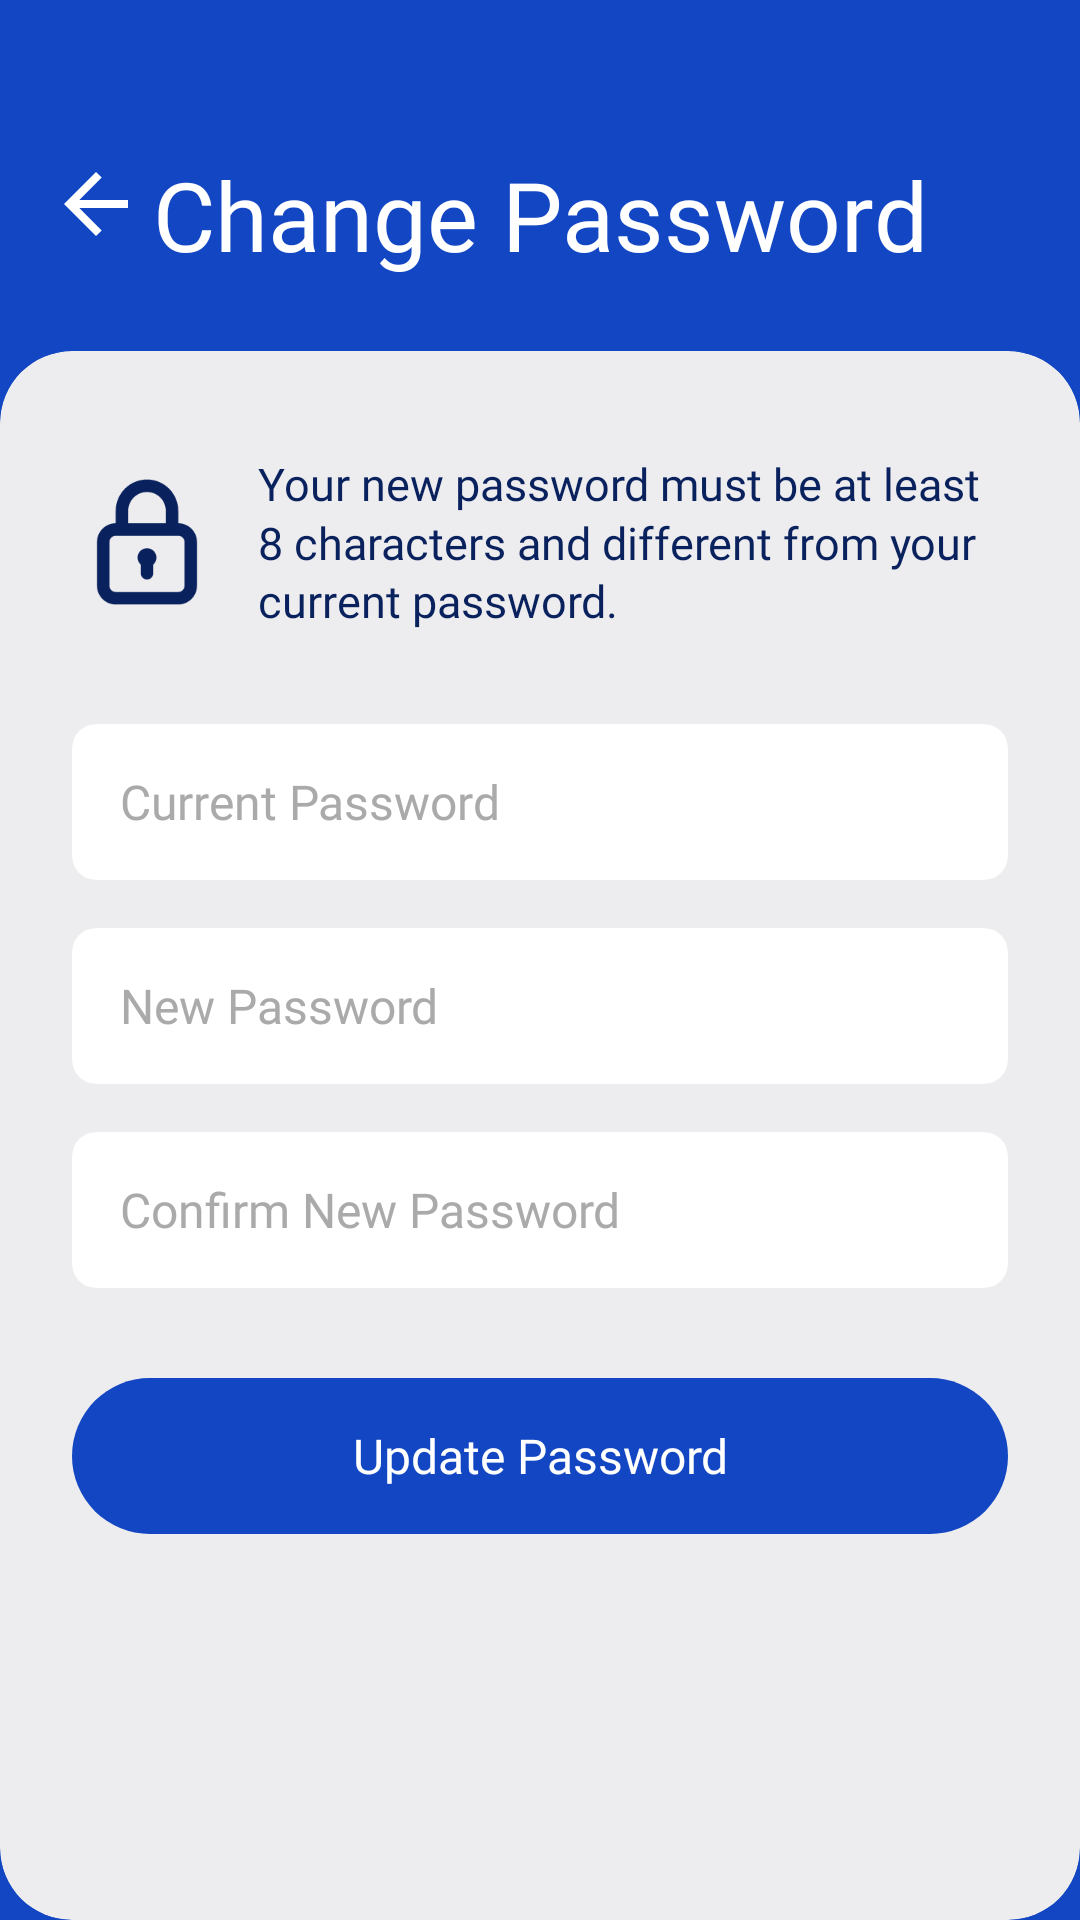

Named icons in this screenshot (1080×1920) and their bounding boxes, box=[x1, y1, x2, y2]:
arrow back: box=[64, 172, 128, 236]
lock: box=[96, 479, 198, 605]
